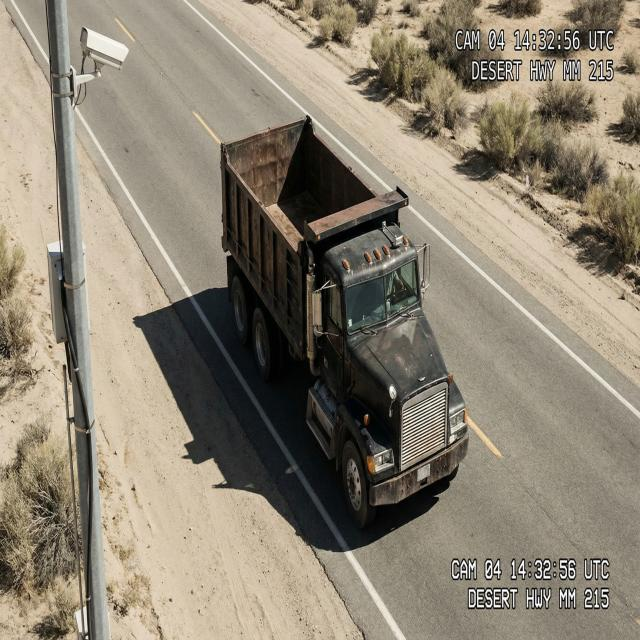Box: (217, 115, 409, 241)
Truck: (213, 104, 470, 516)
